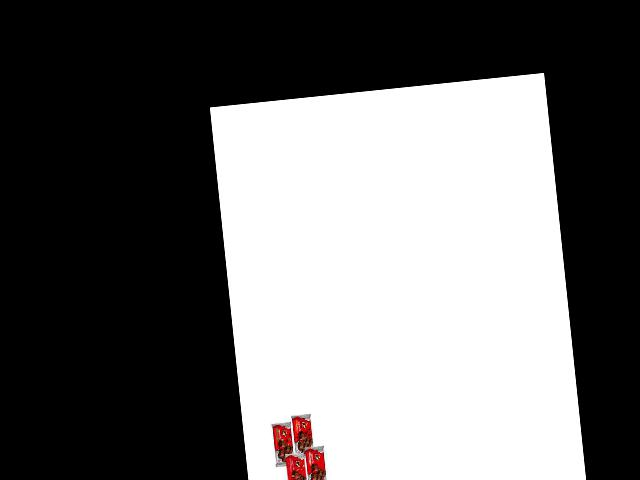chocolate: (268, 417, 299, 470)
